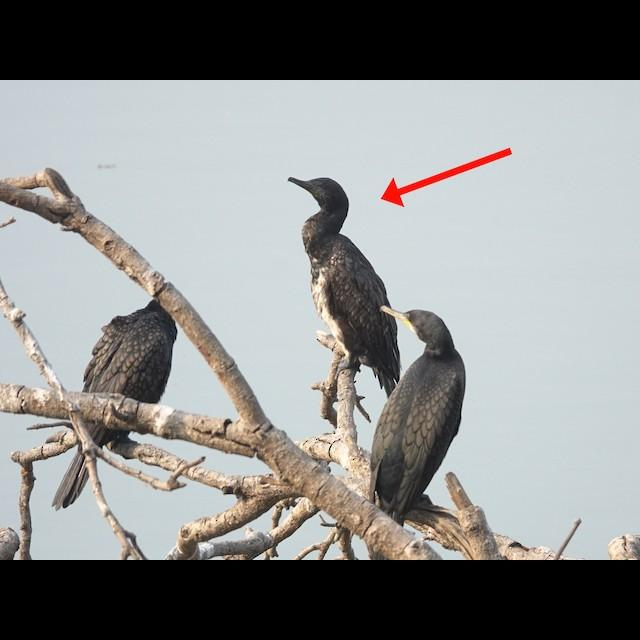cormorant: (48, 289, 188, 515), (284, 170, 402, 388), (362, 305, 471, 517)
